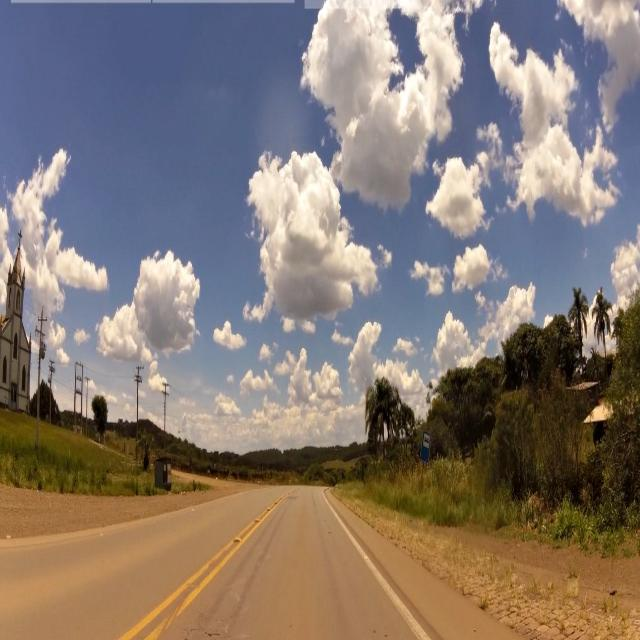S-14: (420, 432, 430, 461)
